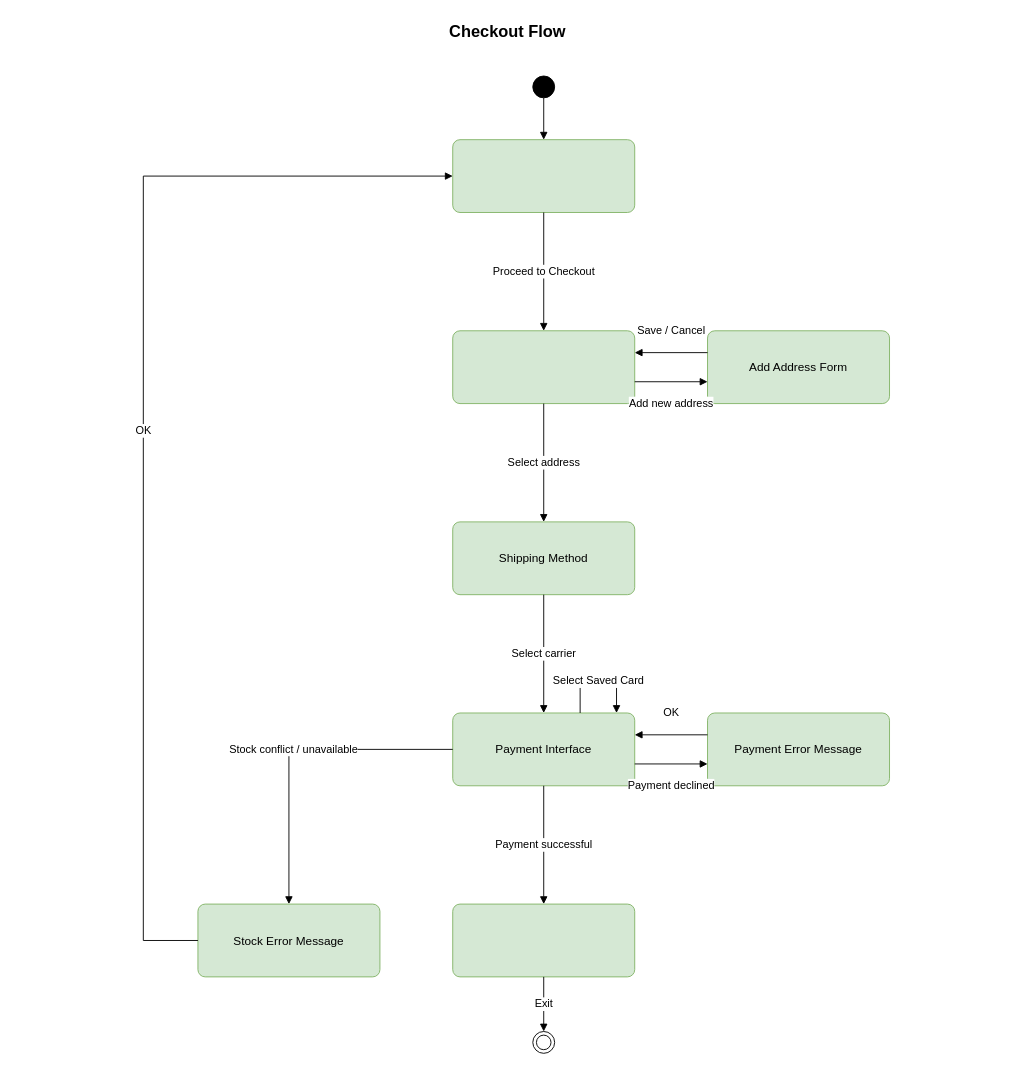
Some shapes in this 1014 by 1069 pixel diagram are drawn without their labels. The shapes that lost their labels are listed below. From the top down, each one's centre as x and y in pixels, then its label:
At (543,175): "Shopping Cart".
At (543,367): "Address Selection".
At (543,940): "Order Confirmation".
